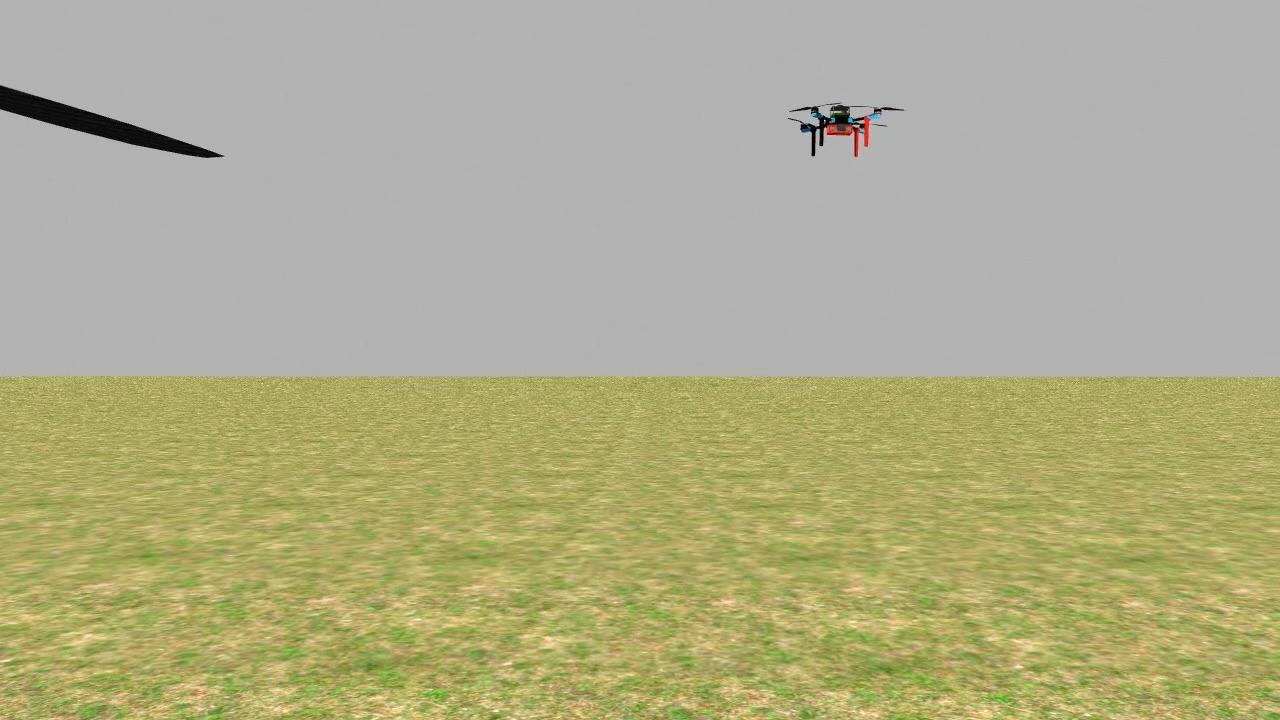UAV: (766, 78, 912, 169)
